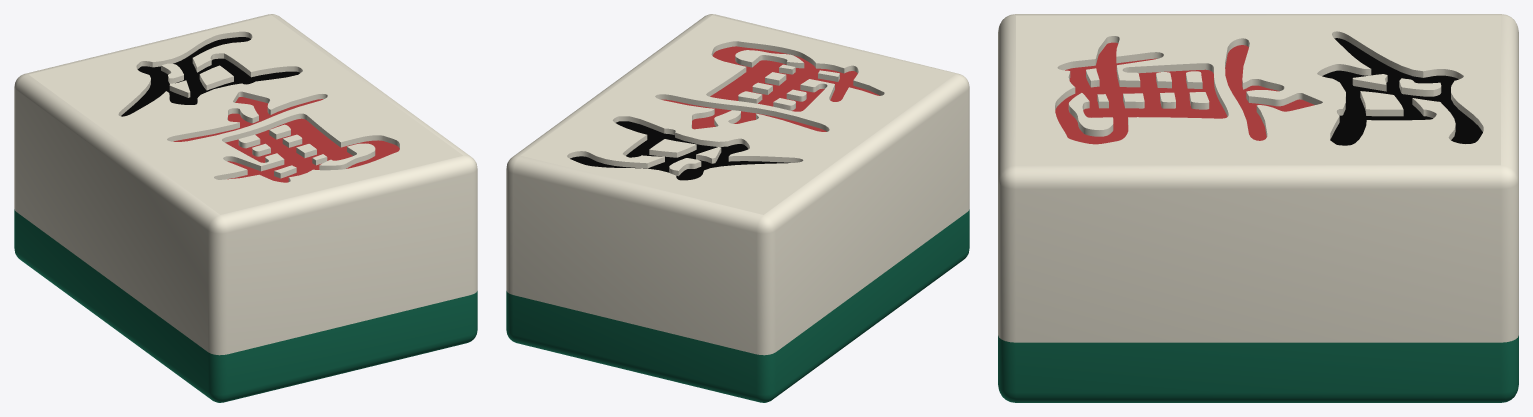
File: Man5.glb
The picture shows the model from 3 angles, left to right: view 1: azimuth 30°, elevation 25°; view 2: azimuth 150°, elevation 25°; view 3: azimuth 270°, elevation 25°; orthographic projection. The views are drawn at different scales.
Visible parts, largest first — view 1: Man5_body, Man5_inset; view 2: Man5_body, Man5_inset; view 3: Man5_body, Man5_inset.
Part boxes in pixels (left/top/right/bottom): Man5_body: left=14, top=14, right=477, bottom=402; Man5_inset: left=121, top=37, right=399, bottom=182; Man5_body: left=506, top=14, right=969, bottom=402; Man5_inset: left=570, top=46, right=879, bottom=180; Man5_body: left=998, top=14, right=1518, bottom=402; Man5_inset: left=1055, top=38, right=1482, bottom=145.
Bounding box in the file's own units: 0.024 × 0.016 × 0.032.
